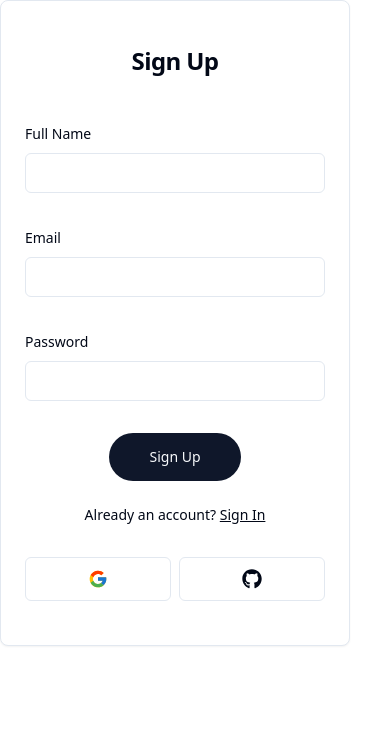
Test: RegisterForm component › should display success message if registration succeeds
The width and height of the screenshot is (367, 743).
Type "John Doe" into the field labelled "Full Name".
click(175, 173); type("John Doe")  # box [25,153,325,193]
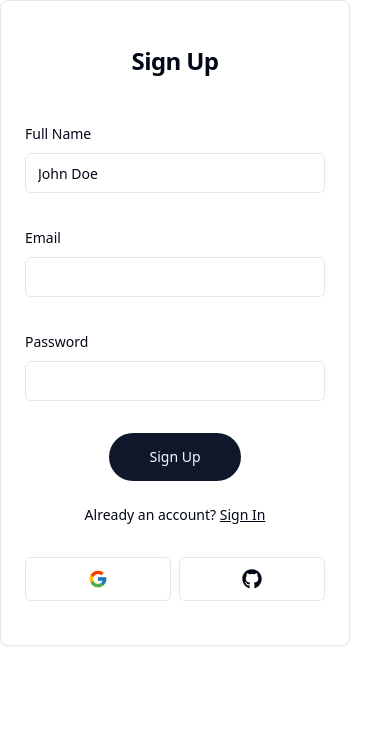
Type "john@example.com" into the field labelled "Email".
click(175, 277); type("john@example.com")  # box [25,257,325,297]
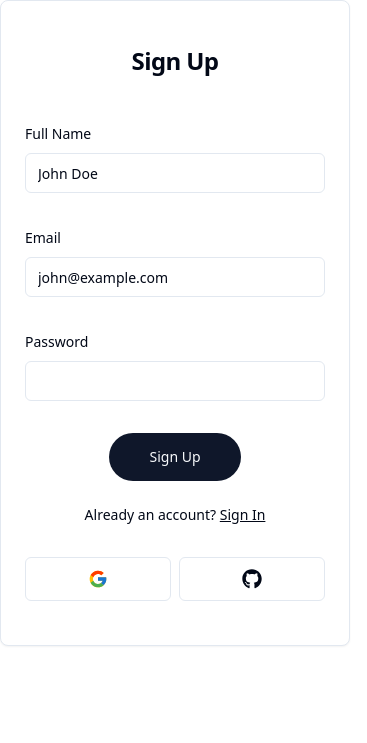
Type "password123" into the password field labelled "Password".
click(175, 381); type("password123")  # box [25,361,325,401]
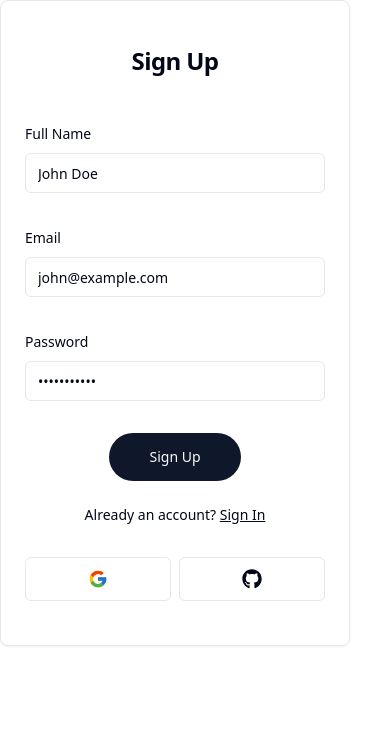
Click the button "Sign Up".
click(175, 457)  # box [110,433,240,481]
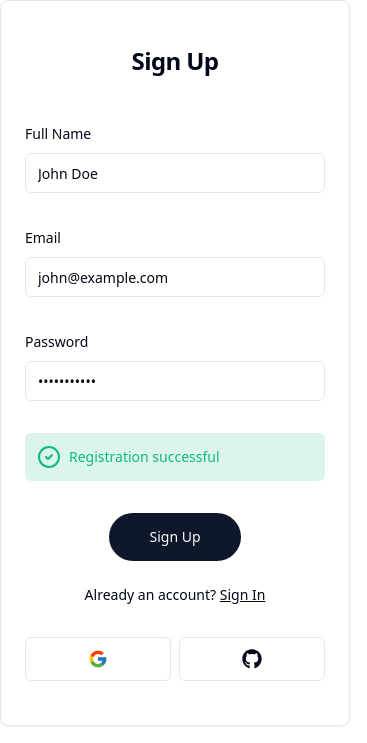
Result: the text "Registration successful" is shown at [69,447,220,467]
